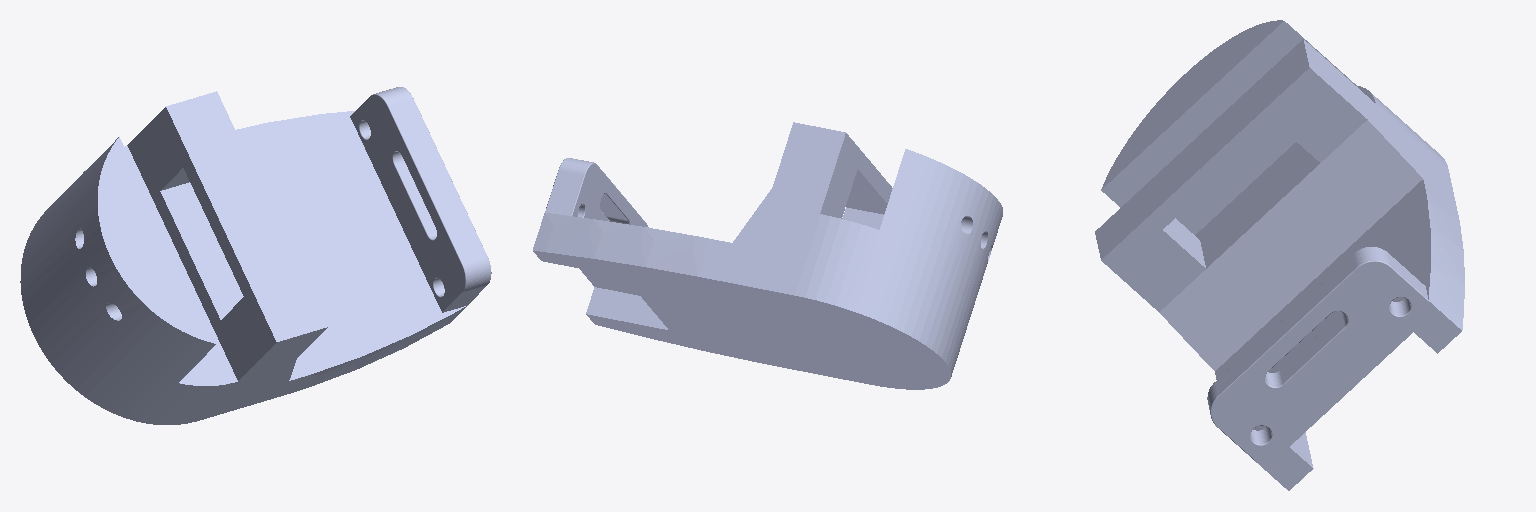
robot.urdf — onshape:
<robot name="onshape">
<link name="base">
<visual>
<origin xyz="-0.043000000000000093703 -0.056249572745411466346 0.053674572697836049617" rpy="1.570796326794896558 6.9388939039074071039e-18 -2.0296264668928948688e-16" />
<geometry>
<mesh filename="package://Arm_URDF/meshes/arm/batterycover.stl"/>
</geometry>
<material name="batterycover_material">
<color rgba="0.79607843137254896693 0.82352941176470584317 0.9372549019607843146 1.0"/>
</material>
</visual>
<collision>
<origin xyz="-0.043000000000000093703 -0.056249572745411466346 0.053674572697836049617" rpy="1.570796326794896558 6.9388939039074071039e-18 -2.0296264668928948688e-16" />
<geometry>
<mesh filename="package://Arm_URDF/meshes/arm/batterycover.stl"/>
</geometry>
</collision>
<visual>
<origin xyz="0.027999999999999969358 0.045620425736449282672 -0.0078254274213730105197" rpy="-1.570796326794896558 -0 -1.570796326794896558" />
<geometry>
<mesh filename="package://Arm_URDF/meshes/arm/bar.stl"/>
</geometry>
<material name="bar_material">
<color rgba="0.62745098039215685404 0.62745098039215685404 0.62745098039215685404 1.0"/>
</material>
</visual>
<collision>
<origin xyz="0.027999999999999969358 0.045620425736449282672 -0.0078254274213730105197" rpy="-1.570796326794896558 -0 -1.570796326794896558" />
<geometry>
<mesh filename="package://Arm_URDF/meshes/arm/bar.stl"/>
</geometry>
</collision>
<visual>
<origin xyz="-0.045499999999999984901 0.18587042725458807757 0.00017457269783627965554" rpy="-1.570796326794896558 -0 -1.570796326794896558" />
<geometry>
<mesh filename="package://Arm_URDF/meshes/arm/nuc_enclosure_right_v8.step.stl"/>
</geometry>
<material name="nuc_enclosure_right_v8.step_material">
<color rgba="0.62745098039215685404 0.62745098039215685404 0.62745098039215685404 1.0"/>
</material>
</visual>
<collision>
<origin xyz="-0.045499999999999984901 0.18587042725458807757 0.00017457269783627965554" rpy="-1.570796326794896558 -0 -1.570796326794896558" />
<geometry>
<mesh filename="package://Arm_URDF/meshes/arm/nuc_enclosure_right_v8.step.stl"/>
</geometry>
</collision>
<visual>
<origin xyz="-0.029000000000002121303 0.050370427254587735177 0.059174572697836602675" rpy="1.570796326794896558 9.0105057071027178548e-17 1.570796326794896558" />
<geometry>
<mesh filename="package://Arm_URDF/meshes/arm/cap.stl"/>
</geometry>
<material name="cap_material">
<color rgba="0.62745098039215685404 0.62745098039215685404 0.62745098039215685404 1.0"/>
</material>
</visual>
<collision>
<origin xyz="-0.029000000000002121303 0.050370427254587735177 0.059174572697836602675" rpy="1.570796326794896558 9.0105057071027178548e-17 1.570796326794896558" />
<geometry>
<mesh filename="package://Arm_URDF/meshes/arm/cap.stl"/>
</geometry>
</collision>
<visual>
<origin xyz="-9.0000000000006741274e-05 -0.001039572745412595256 0.037174572697836277824" rpy="-1.570796326794896558 -0 0" />
<geometry>
<mesh filename="package://Arm_URDF/meshes/arm/motor.stl"/>
</geometry>
<material name="motor_material">
<color rgba="1 1 1 1.0"/>
</material>
</visual>
<collision>
<origin xyz="-9.0000000000006741274e-05 -0.001039572745412595256 0.037174572697836277824" rpy="-1.570796326794896558 -0 0" />
<geometry>
<mesh filename="package://Arm_URDF/meshes/arm/motor.stl"/>
</geometry>
</collision>
<visual>
<origin xyz="0.045500000000000005718 0.037870427254587731014 0.00017457269783625623677" rpy="-1.570796326794896558 -2.2204460492410355836e-16 1.57079632679489678" />
<geometry>
<mesh filename="package://Arm_URDF/meshes/arm/nuc_enclosure_left_v27.step.stl"/>
</geometry>
<material name="nuc_enclosure_left_v27.step_material">
<color rgba="0.62745098039215685404 0.62745098039215685404 0.62745098039215685404 1.0"/>
</material>
</visual>
<collision>
<origin xyz="0.045500000000000005718 0.037870427254587731014 0.00017457269783625623677" rpy="-1.570796326794896558 -2.2204460492410355836e-16 1.57079632679489678" />
<geometry>
<mesh filename="package://Arm_URDF/meshes/arm/nuc_enclosure_left_v27.step.stl"/>
</geometry>
</collision>
<visual>
<origin xyz="0 -0.001129572745412591589 0.00017457269783627965554" rpy="0 -0 0" />
<geometry>
<mesh filename="package://Arm_URDF/meshes/arm/base.stl"/>
</geometry>
<material name="base_material">
<color rgba="1 1 1 1.0"/>
</material>
</visual>
<collision>
<origin xyz="0 -0.001129572745412591589 0.00017457269783627965554" rpy="0 -0 0" />
<geometry>
<mesh filename="package://Arm_URDF/meshes/arm/base.stl"/>
</geometry>
</collision>
<visual>
<origin xyz="-0.0030000000000000581757 0.11587042725458805703 0.0041745726978362797388" rpy="0 -0 -1.2325951644077898923e-32" />
<geometry>
<mesh filename="package://Arm_URDF/meshes/arm/nuc.stl"/>
</geometry>
<material name="nuc_material">
<color rgba="0.61568627450980395466 0.81176470588235294379 0.92941176470588238168 1.0"/>
</material>
</visual>
<collision>
<origin xyz="-0.0030000000000000581757 0.11587042725458805703 0.0041745726978362797388" rpy="0 -0 -1.2325951644077898923e-32" />
<geometry>
<mesh filename="package://Arm_URDF/meshes/arm/nuc.stl"/>
</geometry>
</collision>
<visual>
<origin xyz="-0.063000000000000000444 0.045620425736449157772 -0.0078254274213730122545" rpy="-1.570796326794896558 -0 -1.570796326794896558" />
<geometry>
<mesh filename="package://Arm_URDF/meshes/arm/bar.stl"/>
</geometry>
<material name="bar_material">
<color rgba="0.62745098039215685404 0.62745098039215685404 0.62745098039215685404 1.0"/>
</material>
</visual>
<collision>
<origin xyz="-0.063000000000000000444 0.045620425736449157772 -0.0078254274213730122545" rpy="-1.570796326794896558 -0 -1.570796326794896558" />
<geometry>
<mesh filename="package://Arm_URDF/meshes/arm/bar.stl"/>
</geometry>
</collision>
<visual>
<origin xyz="-0.040500000000000015155 -0.056249572745412590447 0.053674572697836375745" rpy="1.570796326794896558 1.5919291637703030189e-31 1.3010426069826006369e-16" />
<geometry>
<mesh filename="package://Arm_URDF/meshes/arm/batterybox.stl"/>
</geometry>
<material name="batterybox_material">
<color rgba="0.79607843137254896693 0.82352941176470584317 0.9372549019607843146 1.0"/>
</material>
</visual>
<collision>
<origin xyz="-0.040500000000000015155 -0.056249572745412590447 0.053674572697836375745" rpy="1.570796326794896558 1.5919291637703030189e-31 1.3010426069826006369e-16" />
<geometry>
<mesh filename="package://Arm_URDF/meshes/arm/batterybox.stl"/>
</geometry>
</collision>
<visual>
<origin xyz="0 -0.001129572745412591589 0.078174572697836286483" rpy="0 -0 0" />
<geometry>
<mesh filename="package://Arm_URDF/meshes/arm/base2.stl"/>
</geometry>
<material name="base2_material">
<color rgba="1 1 1 1.0"/>
</material>
</visual>
<collision>
<origin xyz="0 -0.001129572745412591589 0.078174572697836286483" rpy="0 -0 0" />
<geometry>
<mesh filename="package://Arm_URDF/meshes/arm/base2.stl"/>
</geometry>
</collision>
<inertial>
<origin xyz="-0.0010344577161941546743 0.04181890992252584871 0.029898059563253923804" rpy="0 0 0"/>
<mass value="2.728488216480799089" />
<inertia ixx="0.02706774372853133076" ixy="0.00054067252642245040677"  ixz="2.8567880911383165094e-05" iyy="0.0038152470185468614385" iyz="0.00054819753264507132921" izz="0.028383963686429720258" />
</inertial>
</link>

<link name="link1">
<visual>
<origin xyz="-0.0054332708436385518391 -1.7997756063259373605e-17 -0.033000000000000001554" rpy="3.141592653589793116 -9.8090892502737194965e-45 1.267861666945625271e-17" />
<geometry>
<mesh filename="package://Arm_URDF/meshes/arm/link1.stl"/>
</geometry>
<material name="link1_material">
<color rgba="1 1 1 1.0"/>
</material>
</visual>
<collision>
<origin xyz="-0.0054332708436385518391 -1.7997756063259373605e-17 -0.033000000000000001554" rpy="3.141592653589793116 -9.8090892502737194965e-45 1.267861666945625271e-17" />
<geometry>
<mesh filename="package://Arm_URDF/meshes/arm/link1.stl"/>
</geometry>
</collision>
<visual>
<origin xyz="-0.0054332708436385518391 -1.7997756063259373605e-17 -0.033000000000000001554" rpy="-3.141592653589793116 -1.570796326794896558 0" />
<geometry>
<mesh filename="package://Arm_URDF/meshes/arm/base2.stl"/>
</geometry>
<material name="base2_material">
<color rgba="1 1 1 1.0"/>
</material>
</visual>
<collision>
<origin xyz="-0.0054332708436385518391 -1.7997756063259373605e-17 -0.033000000000000001554" rpy="-3.141592653589793116 -1.570796326794896558 0" />
<geometry>
<mesh filename="package://Arm_URDF/meshes/arm/base2.stl"/>
</geometry>
</collision>
<visual>
<origin xyz="-0.046433270843638324576 8.9999999999992863486e-05 -0.033089999999999925029" rpy="1.570796326794896558 -1.5707963267948961139 0" />
<geometry>
<mesh filename="package://Arm_URDF/meshes/arm/motor.stl"/>
</geometry>
<material name="motor_material">
<color rgba="1 1 1 1.0"/>
</material>
</visual>
<collision>
<origin xyz="-0.046433270843638324576 8.9999999999992863486e-05 -0.033089999999999925029" rpy="1.570796326794896558 -1.5707963267948961139 0" />
<geometry>
<mesh filename="package://Arm_URDF/meshes/arm/motor.stl"/>
</geometry>
</collision>
<inertial>
<origin xyz="-0.041242122456885535464 9.5447388145449493248e-05 -0.030973541753897184531" rpy="0 0 0"/>
<mass value="0.58371184536850717617" />
<inertia ixx="0.00019245383353722509095" ixy="2.1656015044083137864e-07"  ixz="-1.212208052300071926e-05" iyy="0.00041195380001483834298" iyz="1.1823486784021973871e-07" izz="0.00037713570669470287879" />
</inertial>
</link>

<link name="link2">
<visual>
<origin xyz="-0.20499999999999776734 -6.6613381477509392425e-16 0.059999999999999720224" rpy="-1.7029276923339265031e-15 -1.570796326794896558 0" />
<geometry>
<mesh filename="package://Arm_URDF/meshes/arm/link2.2.stl"/>
</geometry>
<material name="link2.2_material">
<color rgba="1 1 1 1.0"/>
</material>
</visual>
<collision>
<origin xyz="-0.20499999999999776734 -6.6613381477509392425e-16 0.059999999999999720224" rpy="-1.7029276923339265031e-15 -1.570796326794896558 0" />
<geometry>
<mesh filename="package://Arm_URDF/meshes/arm/link2.2.stl"/>
</geometry>
</collision>
<visual>
<origin xyz="-0.20499999999999782285 -5.9674487573602164048e-16 0.059999999999999706346" rpy="1.778867441181035444e-17 4.8251088930317348765e-16 3.1415926535897926719" />
<geometry>
<mesh filename="package://Arm_URDF/meshes/arm/base2.stl"/>
</geometry>
<material name="base2_material">
<color rgba="1 1 1 1.0"/>
</material>
</visual>
<collision>
<origin xyz="-0.20499999999999782285 -5.9674487573602164048e-16 0.059999999999999706346" rpy="1.778867441181035444e-17 4.8251088930317348765e-16 3.1415926535897926719" />
<geometry>
<mesh filename="package://Arm_URDF/meshes/arm/base2.stl"/>
</geometry>
</collision>
<visual>
<origin xyz="0 0 0.020000000000000000416" rpy="1.570796326794896558 1.570796326794896558 0" />
<geometry>
<mesh filename="package://Arm_URDF/meshes/arm/link2.stl"/>
</geometry>
<material name="link2_material">
<color rgba="1 1 1 1.0"/>
</material>
</visual>
<collision>
<origin xyz="0 0 0.020000000000000000416" rpy="1.570796326794896558 1.570796326794896558 0" />
<geometry>
<mesh filename="package://Arm_URDF/meshes/arm/link2.stl"/>
</geometry>
</collision>
<visual>
<origin xyz="-0.20508999999999941166 8.9999999999298974096e-05 0.019000000000000412392" rpy="-1.570796326794896558 9.5727299502079627247e-16 -1.08214256620902617e-15" />
<geometry>
<mesh filename="package://Arm_URDF/meshes/arm/motor.stl"/>
</geometry>
<material name="motor_material">
<color rgba="1 1 1 1.0"/>
</material>
</visual>
<collision>
<origin xyz="-0.20508999999999941166 8.9999999999298974096e-05 0.019000000000000412392" rpy="-1.570796326794896558 9.5727299502079627247e-16 -1.08214256620902617e-15" />
<geometry>
<mesh filename="package://Arm_URDF/meshes/arm/motor.stl"/>
</geometry>
</collision>
<inertial>
<origin xyz="-0.18369256495623187408 5.1287889447513036203e-05 0.01467330229163361921" rpy="0 0 0"/>
<mass value="0.69558895030050260644" />
<inertia ixx="0.00057902308488614251045" ixy="8.3152475479661448625e-07"  ixz="0.00045703634575853965783" iyy="0.0024076671898047912954" iyz="-5.0553322379110441339e-07" izz="0.0020098405261636405859" />
</inertial>
</link>

<link name="link3">
<visual>
<origin xyz="-0.14755927857215847543 -0.0030709617015239887294 0.034999999999999531486" rpy="-1.570796326794901443 7.8815869593862586232e-16 1.7713591602216023357" />
<geometry>
<mesh filename="package://Arm_URDF/meshes/arm/gripper_3.stl"/>
</geometry>
<material name="gripper_3_material">
<color rgba="0 0.50196078431372548323 1 1.0"/>
</material>
</visual>
<collision>
<origin xyz="-0.14755927857215847543 -0.0030709617015239887294 0.034999999999999531486" rpy="-1.570796326794901443 7.8815869593862586232e-16 1.7713591602216023357" />
<geometry>
<mesh filename="package://Arm_URDF/meshes/arm/gripper_3.stl"/>
</geometry>
</collision>
<visual>
<origin xyz="-0.095067017584915369799 0.0037828239434247734607 0.008215004668317753278" rpy="3.5664695208912036138e-16 -1.570796326794896558 0" />
<geometry>
<mesh filename="package://Arm_URDF/meshes/arm/part_2.stl"/>
</geometry>
<material name="part_2_material">
<color rgba="0.79607843137254896693 0.82352941176470584317 0.9372549019607843146 1.0"/>
</material>
</visual>
<collision>
<origin xyz="-0.095067017584915369799 0.0037828239434247734607 0.008215004668317753278" rpy="3.5664695208912036138e-16 -1.570796326794896558 0" />
<geometry>
<mesh filename="package://Arm_URDF/meshes/arm/part_2.stl"/>
</geometry>
</collision>
<visual>
<origin xyz="-0.11574999999999993627 0.00092468640208276386971 0.019999999999999566735" rpy="4.0236093262708227392e-17 -4.9438733272218117758e-17 2.0144807537012205006e-16" />
<geometry>
<mesh filename="package://Arm_URDF/meshes/arm/servo.stl"/>
</geometry>
<material name="servo_material">
<color rgba="0.61568627450980395466 0.81176470588235294379 0.92941176470588238168 1.0"/>
</material>
</visual>
<collision>
<origin xyz="-0.11574999999999993627 0.00092468640208276386971 0.019999999999999566735" rpy="4.0236093262708227392e-17 -4.9438733272218117758e-17 2.0144807537012205006e-16" />
<geometry>
<mesh filename="package://Arm_URDF/meshes/arm/servo.stl"/>
</geometry>
</collision>
<visual>
<origin xyz="-0.13174999999999989497 -0.0084999999999998965272 0.037499999999999616973" rpy="-0.20056283342669889436 1.570796326794896558 0" />
<geometry>
<mesh filename="package://Arm_URDF/meshes/arm/gripper_1.stl"/>
</geometry>
<material name="gripper_1_material">
<color rgba="0.89411764705882357251 0.91372549019607840481 0.92941176470588238168 1.0"/>
</material>
</visual>
<collision>
<origin xyz="-0.13174999999999989497 -0.0084999999999998965272 0.037499999999999616973" rpy="-0.20056283342669889436 1.570796326794896558 0" />
<geometry>
<mesh filename="package://Arm_URDF/meshes/arm/gripper_1.stl"/>
</geometry>
</collision>
<visual>
<origin xyz="-2.7755575615628913511e-17 -5.5511151231257827021e-17 0.020000000000000010825" rpy="1.570796326794896558 1.570796326794896558 0" />
<geometry>
<mesh filename="package://Arm_URDF/meshes/arm/link3.stl"/>
</geometry>
<material name="link3_material">
<color rgba="1 1 1 1.0"/>
</material>
</visual>
<collision>
<origin xyz="-2.7755575615628913511e-17 -5.5511151231257827021e-17 0.020000000000000010825" rpy="1.570796326794896558 1.570796326794896558 0" />
<geometry>
<mesh filename="package://Arm_URDF/meshes/arm/link3.stl"/>
</geometry>
</collision>
<visual>
<origin xyz="-0.14669465341390486302 0.0010123381382037832665 0.035000000000000003331" rpy="1.5707963267948950037 -7.6463365347586373083e-16 -1.6376814851098608905" />
<geometry>
<mesh filename="package://Arm_URDF/meshes/arm/gripper_3.stl"/>
</geometry>
<material name="gripper_3_material">
<color rgba="0 0.50196078431372548323 1 1.0"/>
</material>
</visual>
<collision>
<origin xyz="-0.14669465341390486302 0.0010123381382037832665 0.035000000000000003331" rpy="1.5707963267948950037 -7.6463365347586373083e-16 -1.6376814851098608905" />
<geometry>
<mesh filename="package://Arm_URDF/meshes/arm/gripper_3.stl"/>
</geometry>
</collision>
<visual>
<origin xyz="-0.095067017584915369799 0.0037828239434247734607 0.008215004668317753278" rpy="3.5664695208912036138e-16 -1.570796326794896558 0" />
<geometry>
<mesh filename="package://Arm_URDF/meshes/arm/part_1.stl"/>
</geometry>
<material name="part_1_material">
<color rgba="0.79607843137254896693 0.82352941176470584317 0.9372549019607843146 1.0"/>
</material>
</visual>
<collision>
<origin xyz="-0.095067017584915369799 0.0037828239434247734607 0.008215004668317753278" rpy="3.5664695208912036138e-16 -1.570796326794896558 0" />
<geometry>
<mesh filename="package://Arm_URDF/meshes/arm/part_1.stl"/>
</geometry>
</collision>
<visual>
<origin xyz="-0.13174999999999989497 0.0084999999999998410161 0.037500000000000054123" rpy="0.066885158314967024795 1.570796326794896558 0" />
<geometry>
<mesh filename="package://Arm_URDF/meshes/arm/gripper_2.stl"/>
</geometry>
<material name="gripper_2_material">
<color rgba="0.89411764705882357251 0.91372549019607840481 0.92941176470588238168 1.0"/>
</material>
</visual>
<collision>
<origin xyz="-0.13174999999999989497 0.0084999999999998410161 0.037500000000000054123" rpy="0.066885158314967024795 1.570796326794896558 0" />
<geometry>
<mesh filename="package://Arm_URDF/meshes/arm/gripper_2.stl"/>
</geometry>
</collision>
<visual>
<origin xyz="-0.1157499999999999224 0 0.037499999999999561462" rpy="-1.57079632679489678 -2.1571113117678167993e-16 1.5707963267948956698" />
<geometry>
<mesh filename="package://Arm_URDF/meshes/arm/gripper_4.stl"/>
</geometry>
<material name="gripper_4_material">
<color rgba="0.89411764705882357251 0.91372549019607840481 0.92941176470588238168 1.0"/>
</material>
</visual>
<collision>
<origin xyz="-0.1157499999999999224 0 0.037499999999999561462" rpy="-1.57079632679489678 -2.1571113117678167993e-16 1.5707963267948956698" />
<geometry>
<mesh filename="package://Arm_URDF/meshes/arm/gripper_4.stl"/>
</geometry>
</collision>
<inertial>
<origin xyz="-0.089483000114599725583 -0.00038577658413896105238 0.0018940659154347233659" rpy="0 0 0"/>
<mass value="0.13213715938135658923" />
<inertia ixx="0.00010975026839934459038" ixy="-7.3563565811300834379e-06"  ixz="0.00013977189346253430439" iyy="0.00056140953791821920915" iyz="1.7061822566271839312e-06" izz="0.00049411105582780785739" />
</inertial>
</link>

<joint name="j3" type="fixed">
<origin xyz="-0.20509002189797051474 -1.4672502470558512755e-05 0.090080000000002602434" rpy="-3.1415926535897922278 -9.3305013695572322979e-15 1.7546092432393536331" />
<parent link="link2" />
<child link="link3" />
<axis xyz="0 0 1"/>
<limit effort="1" velocity="20" />
<joint_properties friction="0.0"/>
</joint>

<joint name="j2" type="fixed">
<origin xyz="0.024646729156363667707 0.00019467250247003466471 -0.033090021897969917886" rpy="-1.570796326794896558 -0.95603848300716276487 1.5707963267949527353" />
<parent link="link1" />
<child link="link2" />
<axis xyz="0 0 1"/>
<limit effort="1" velocity="20" />
<joint_properties friction="0.0"/>
</joint>

<joint name="j1" type="fixed">
<origin xyz="-9.0021897970908593134e-05 -0.0011442452478826114701 0.10063457269783629422" rpy="3.141592653589793116 8.692399673602098605e-30 0.09066580704768881227" />
<parent link="base" />
<child link="link1" />
<axis xyz="0 0 1"/>
<limit effort="1" velocity="20" />
<joint_properties friction="0.0"/>
</joint>
</robot>

--- Facts derived from the render (not from the file) ---
The picture shows the robot from 3 angles, left to right: view 1: azimuth 30°, elevation 25°; view 2: azimuth 150°, elevation 25°; view 3: azimuth 270°, elevation 25°; orthographic projection.
Model onshape with 4 links and 3 joints (3 fixed), rooted at base, posed every joint at zero.
Links seen in each view (by area): view 1: link3; view 2: link3; view 3: link3.
Link boxes in pixels (left/top/right/bottom): link3: left=20, top=87, right=491, bottom=424; link3: left=533, top=122, right=1002, bottom=389; link3: left=1095, top=20, right=1464, bottom=490.
Size in the robot's own frame: 0.0729 by 0.0532 by 0.0508 metres.
2 mesh visuals loaded from 21 distinct referenced files (2 binary STL); not drawn: 25 (reference not matched to a file when rendering).